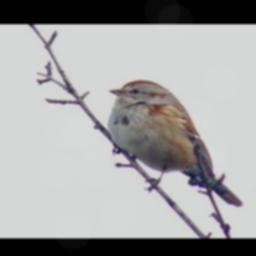Sparrow: (110, 78, 247, 207)
